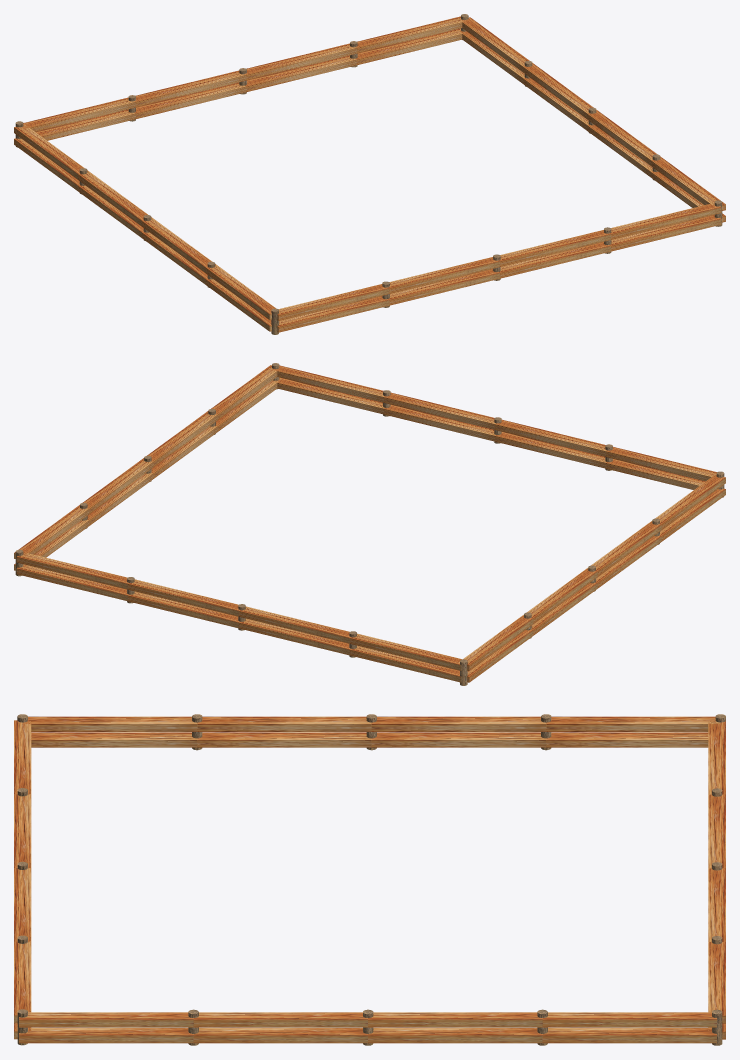
Rendered from cerca.obj.
3 renders of one model, top to bottom at view 1: azimuth 30°, elevation 25°; view 2: azimuth 150°, elevation 25°; view 3: azimuth 270°, elevation 25°, orthographic. The views are drawn at different scales.
Parts seen in each view (by area): view 1: Cubo.014_Cubo.016, Cubo.020_Cubo.022, Cubo.011_Cubo.013, Cubo.009_Cubo.011, Cubo.022_Cubo.024, Cubo.010_Cubo.012, Cubo.017_Cubo.019, Cubo.021_Cubo.023, Cubo.013_Cubo.015, Cubo.016_Cubo.018, Cubo.015_Cubo.017, Cubo.012_Cubo.014 (+20 smaller); view 2: Cubo.022_Cubo.024, Cubo.020_Cubo.022, Cubo.011_Cubo.013, Cubo.009_Cubo.011, Cubo.017_Cubo.019, Cubo.021_Cubo.023, Cubo.010_Cubo.012, Cubo.023_Cubo.025, Cubo.016_Cubo.018, Cubo.008_Cubo.010, Cubo.015_Cubo.017, Cubo.018_Cubo.020 (+20 smaller); view 3: Cubo.007_Cubo.009, Cubo.031_Cubo.033, Cubo.006_Cubo.008, Cubo.027_Cubo.029, Cubo.028_Cubo.030, Cubo.024_Cubo.026, Cubo_Cubo.002, Cubo.004_Cubo.006, Cubo.026_Cubo.028, Cubo.025_Cubo.027, Cubo.030_Cubo.032, Cubo.029_Cubo.031 (+12 smaller).
Boxes of the visible parts, x1,y1,x2,y2 form: Cubo.014_Cubo.016: (277, 284, 389, 320); Cubo.020_Cubo.022: (134, 70, 246, 107); Cubo.011_Cubo.013: (499, 230, 610, 266); Cubo.009_Cubo.011: (388, 257, 499, 293); Cubo.022_Cubo.024: (245, 43, 356, 80); Cubo.010_Cubo.012: (610, 204, 721, 239); Cubo.017_Cubo.019: (356, 16, 467, 53); Cubo.021_Cubo.023: (22, 97, 135, 131); Cubo.013_Cubo.015: (277, 296, 389, 332); Cubo.016_Cubo.018: (134, 82, 246, 118); Cubo.015_Cubo.017: (499, 242, 610, 278); Cubo.012_Cubo.014: (610, 215, 721, 251); Cubo.022_Cubo.024: (127, 579, 239, 616); Cubo.020_Cubo.022: (238, 606, 350, 643); Cubo.011_Cubo.013: (383, 392, 495, 429); Cubo.009_Cubo.011: (494, 419, 606, 456); Cubo.017_Cubo.019: (16, 553, 128, 589); Cubo.021_Cubo.023: (350, 633, 461, 670); Cubo.010_Cubo.012: (273, 365, 384, 402); Cubo.023_Cubo.025: (127, 591, 239, 628); Cubo.016_Cubo.018: (238, 618, 350, 655); Cubo.008_Cubo.010: (494, 432, 606, 468); Cubo.015_Cubo.017: (383, 404, 495, 441); Cubo.018_Cubo.020: (16, 564, 128, 601); Cubo.007_Cubo.009: (371, 732, 546, 747); Cubo.031_Cubo.033: (368, 1028, 542, 1043); Cubo.006_Cubo.008: (371, 716, 546, 731); Cubo.027_Cubo.029: (368, 1012, 542, 1027); Cubo.028_Cubo.030: (542, 1028, 716, 1043); Cubo.024_Cubo.026: (193, 1028, 367, 1043); Cubo_Cubo.002: (197, 732, 371, 747); Cubo.004_Cubo.006: (197, 716, 371, 731); Cubo.026_Cubo.028: (542, 1012, 716, 1027); Cubo.025_Cubo.027: (193, 1012, 367, 1027); Cubo.030_Cubo.032: (19, 1012, 193, 1027); Cubo.029_Cubo.031: (19, 1028, 193, 1043).
Size of the model in its own units: 82.16 by 4 by 81.6.
